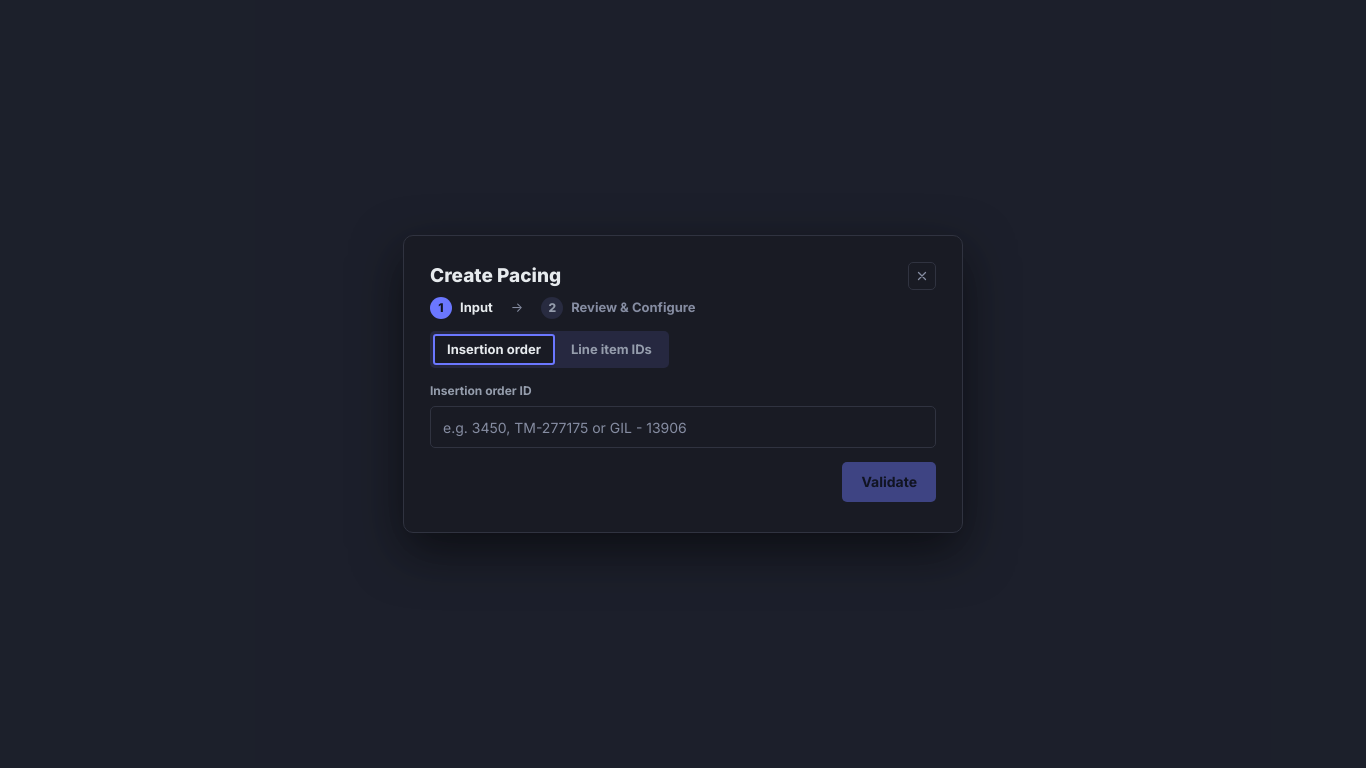
Test: CreatePacingModal › reaches the review step from an insertion-order lookup (mode 1)
In the field labelled "Insertion order ID": (683, 427) [430, 406, 936, 448], type "TM-271064"
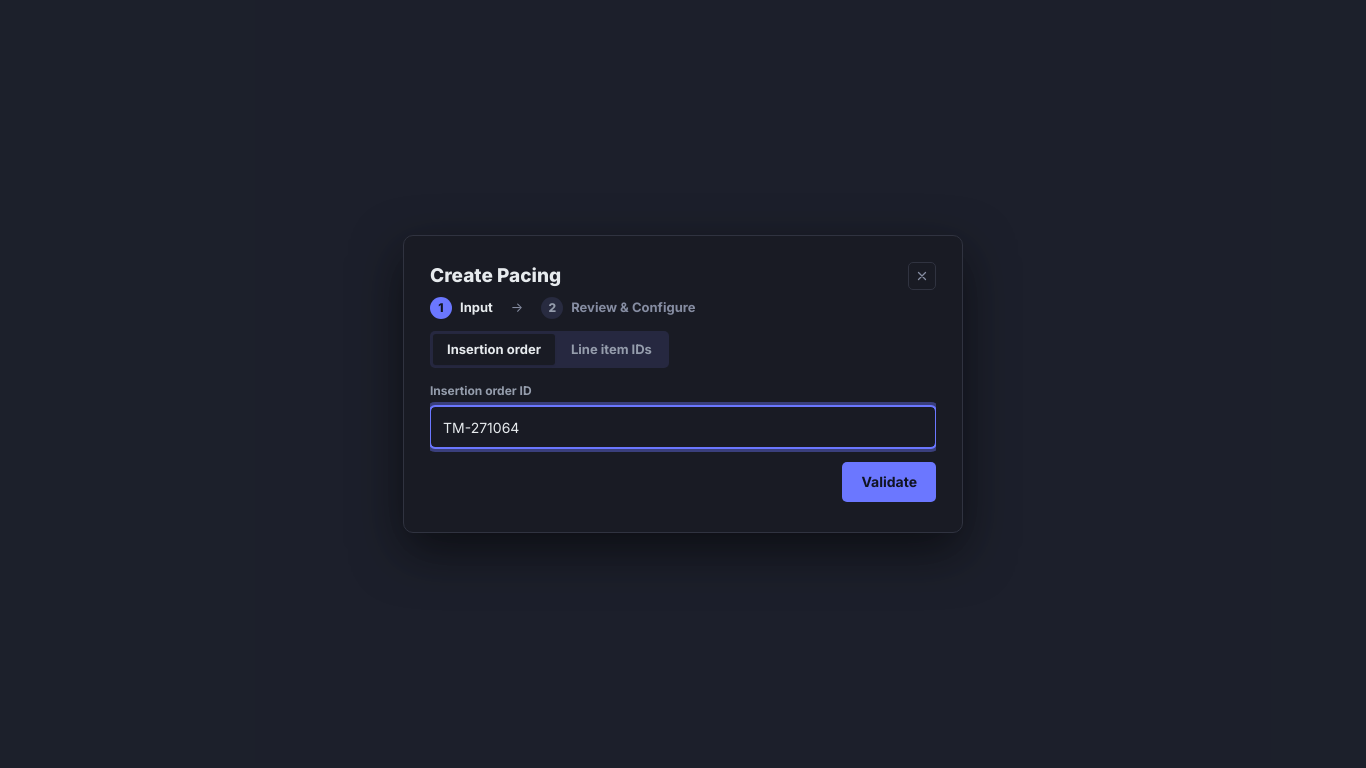
Click the button "Validate": (889, 482) [842, 462, 936, 502]
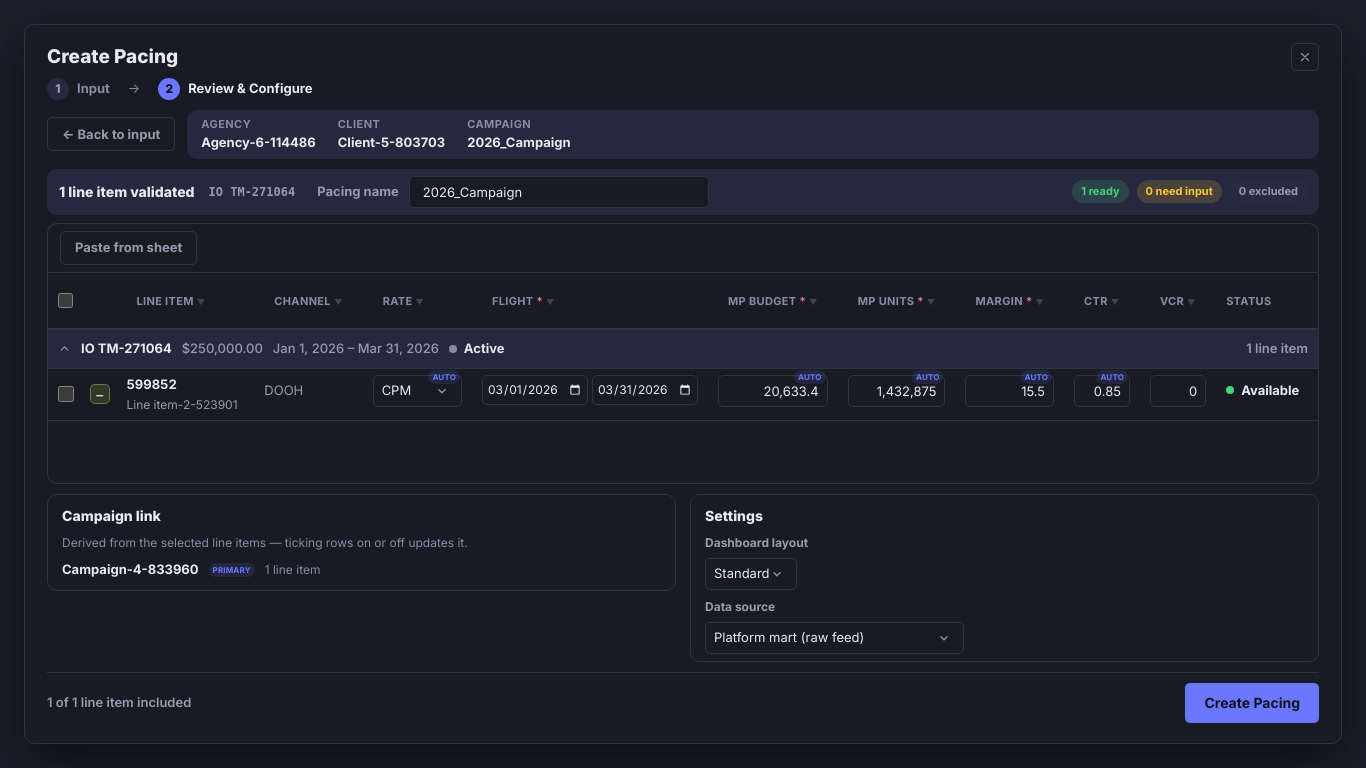
expect the text "599852" is shown: met, box [126, 376, 177, 392]
expect the field labelled "Pacing name" holds "2026_Campaign": met, box [409, 176, 709, 208]
